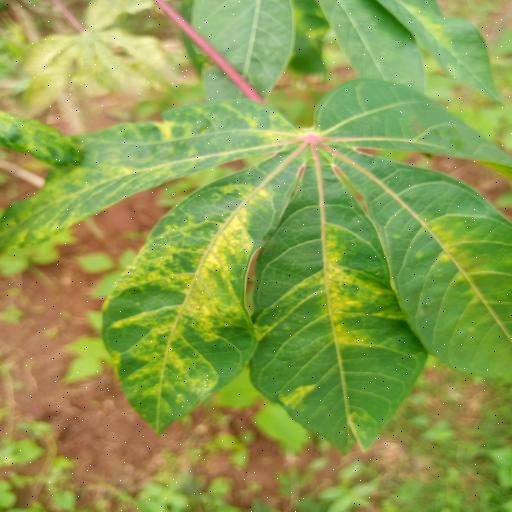Cassava_Mosaic: (0, 79, 512, 455)
